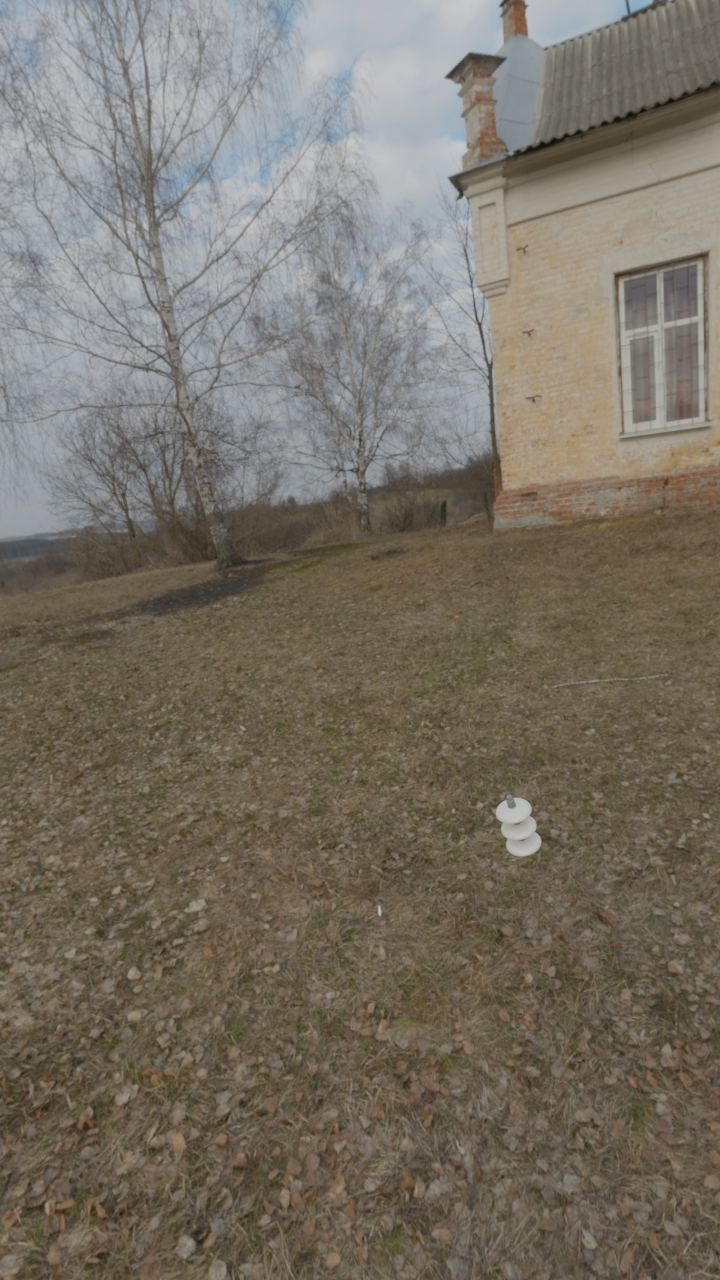ceramicinsulators: (496, 794, 541, 857)
